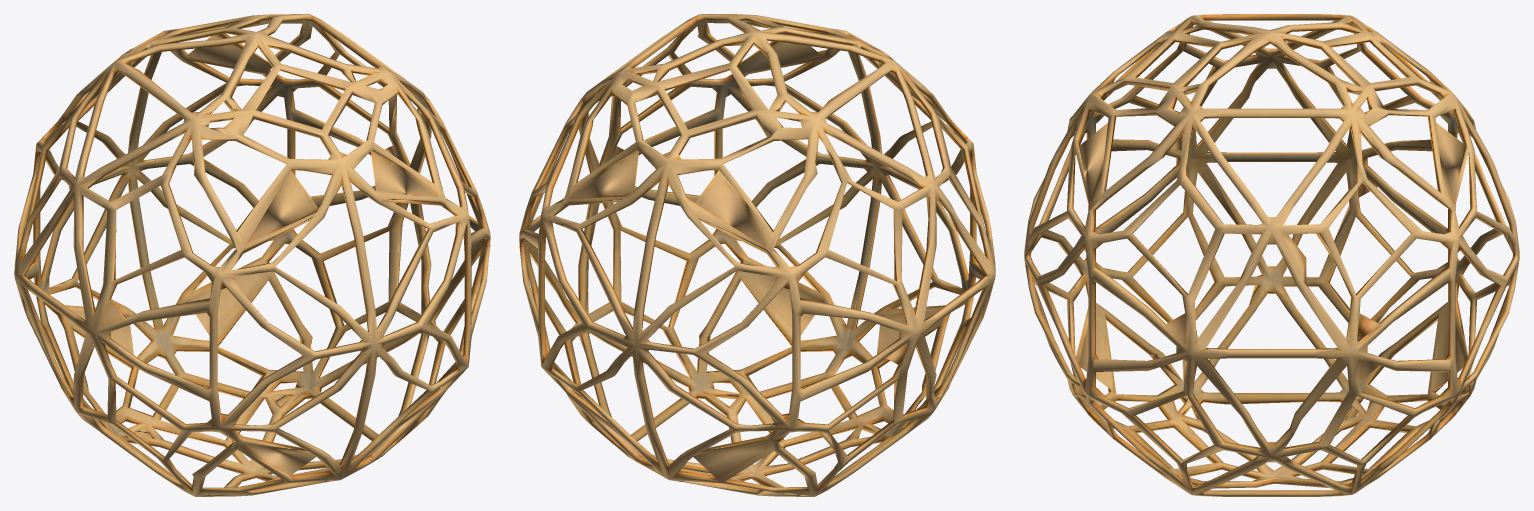
3 renders of one model, left to right at view 1: azimuth 30°, elevation 25°; view 2: azimuth 150°, elevation 25°; view 3: azimuth 270°, elevation 25°, orthographic.
Parts seen in each view (by area): view 1: tripo_node_3f8498e8-dd17-4954-b7cb-6438a644cc93; view 2: tripo_node_3f8498e8-dd17-4954-b7cb-6438a644cc93; view 3: tripo_node_3f8498e8-dd17-4954-b7cb-6438a644cc93.
Part boxes in pixels (x1,y1,x2,y2): tripo_node_3f8498e8-dd17-4954-b7cb-6438a644cc93: (14,14,490,496); tripo_node_3f8498e8-dd17-4954-b7cb-6438a644cc93: (519,14,995,496); tripo_node_3f8498e8-dd17-4954-b7cb-6438a644cc93: (1024,14,1519,496).
Bounding box in the file's own units: 0.9473 × 0.998 × 0.998.
1 material, 1 textured.
